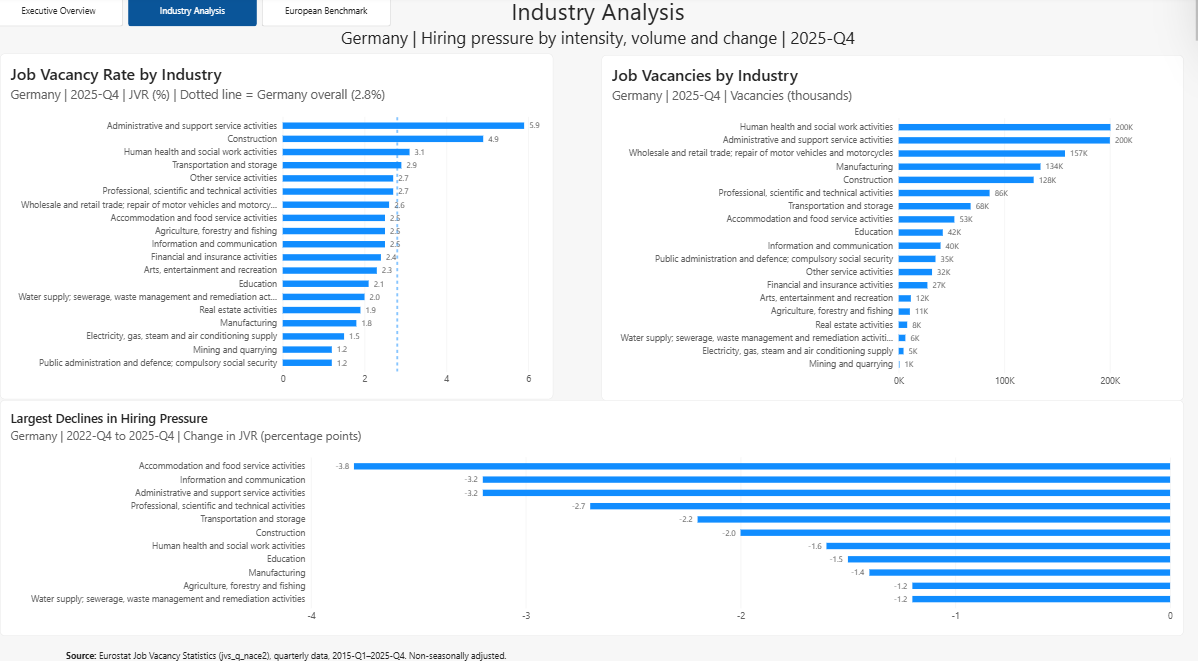

The page's visual inventory and layout, read from the dashboard file:
{"tool":"powerbi","page":{"name":"Industry Analysis","canvas":[1920,1080],"ordinal":1},"visuals":[{"type":"textbox","box":[10,0,1910,94],"z":0},{"type":"clusteredBarChart","title":"Job Vacancy Rate by Industry","fields":{"Category":["DimIndustry.Industry"],"Y":["_Measures.Job Vacancy Rate"]},"box":[10,94,880,550],"z":1},{"type":"clusteredBarChart","title":"Job Vacancies by Industry","fields":{"Category":["DimIndustry.Industry"],"Y":["_Measures.Job Vacancies"]},"box":[966,96,926,550],"z":2},{"type":"clusteredBarChart","title":"Largest Declines in Hiring Pressure","fields":{"Category":["DimIndustry.Industry"],"Y":["_Measures.JVRChange2022-2025"]},"box":[10,645,1882.5,375],"z":3},{"type":"textbox","box":[115,1040,1032.5,40],"z":4},{"type":"pageNavigator","box":[0,0,632.5,50],"z":5}]}

Visuals, with their boxes in screenshot pixels (x1, y1, x2, y2), scaled from the page's 1920x1080 canvas onto the 1198x661 screenshot:
textbox: 6:0:1197:58
"Job Vacancy Rate by Industry" clusteredBarChart: 6:58:555:394
"Job Vacancies by Industry" clusteredBarChart: 603:59:1181:395
"Largest Declines in Hiring Pressure" clusteredBarChart: 6:395:1181:624
textbox: 72:637:716:660
pageNavigator: 0:0:395:31
